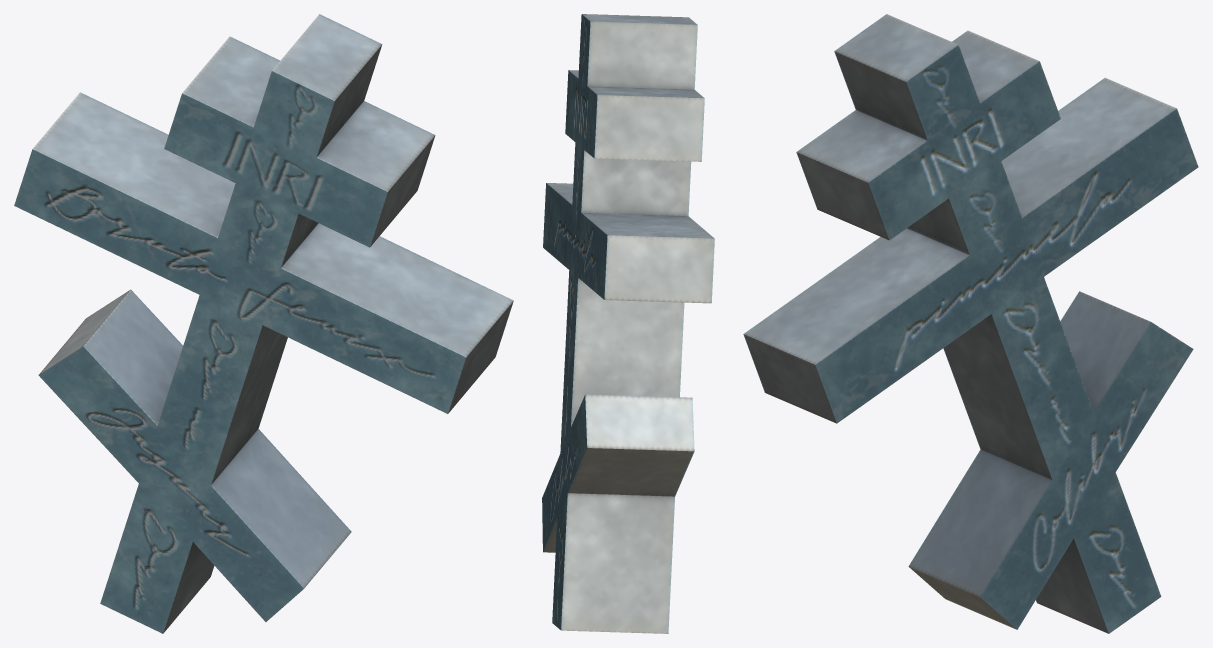
The picture shows the model from 3 angles, left to right: view 1: azimuth 30°, elevation 25°; view 2: azimuth 150°, elevation 25°; view 3: azimuth 270°, elevation 25°; orthographic projection. The views are drawn at different scales.
Parts seen in each view (by area): view 1: Cruz_Orto_Cube.011; view 2: Cruz_Orto_Cube.011; view 3: Cruz_Orto_Cube.011.
Part boxes in pixels (x1,y1,x2,y2): Cruz_Orto_Cube.011: [14, 14, 513, 633]; Cruz_Orto_Cube.011: [542, 14, 714, 633]; Cruz_Orto_Cube.011: [743, 14, 1198, 633].
Bounding box in the file's own units: 1.56 × 2.69 × 1.81.
